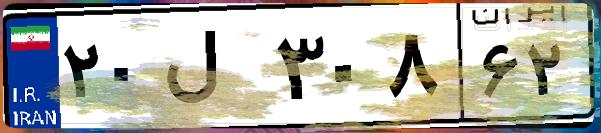0: (330, 28, 385, 110), (110, 28, 158, 98)
2: (57, 26, 110, 100), (525, 38, 570, 115)
3: (270, 28, 330, 110)
6: (475, 38, 525, 113)
8: (385, 28, 445, 110)
ل: (158, 20, 270, 120)
